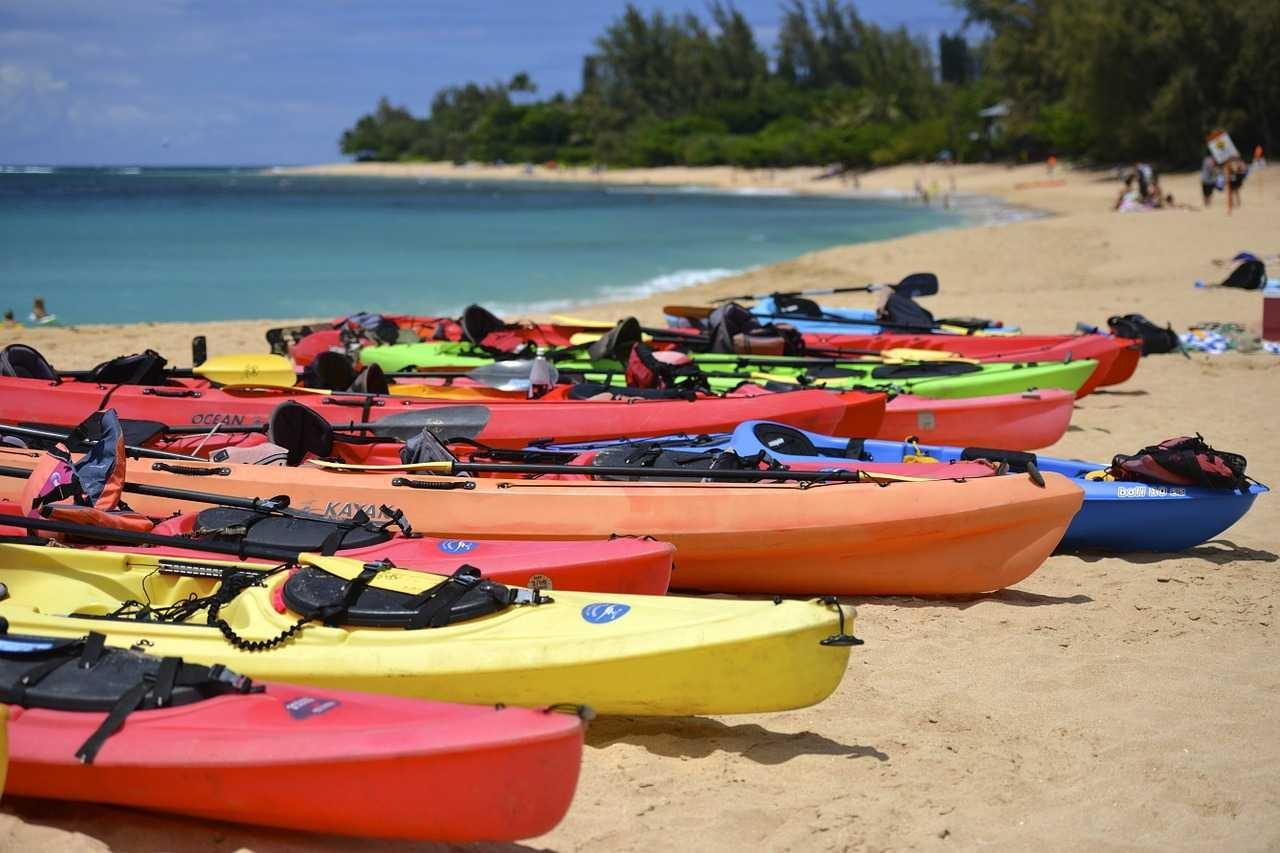kayak: (21, 458, 1092, 602), (6, 557, 860, 719), (2, 630, 591, 840), (970, 445, 1270, 555)
